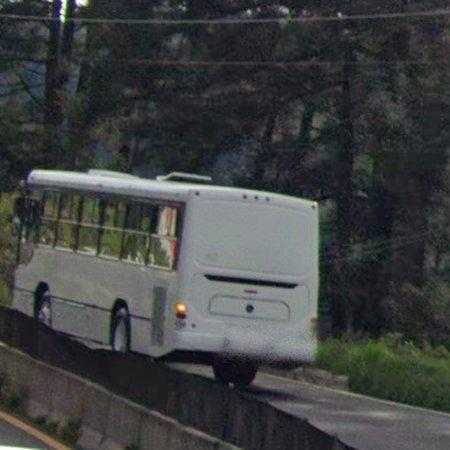buses: (14, 170, 319, 386)
